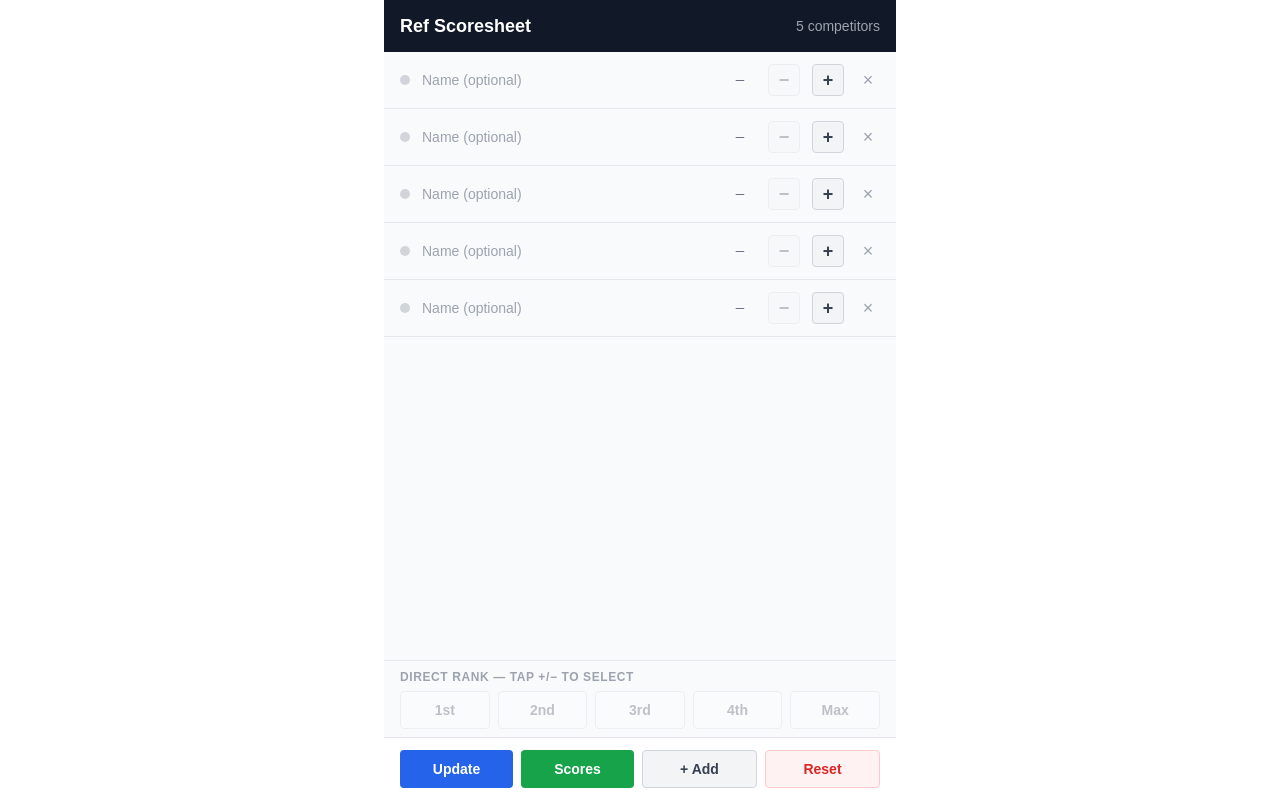
ScoresheetPage › Remove competitor shows confirmation dialog
This screenshot has width=1280, height=800.
Click the button named "remove competitor" at (868, 80), box [856,68,880,92]
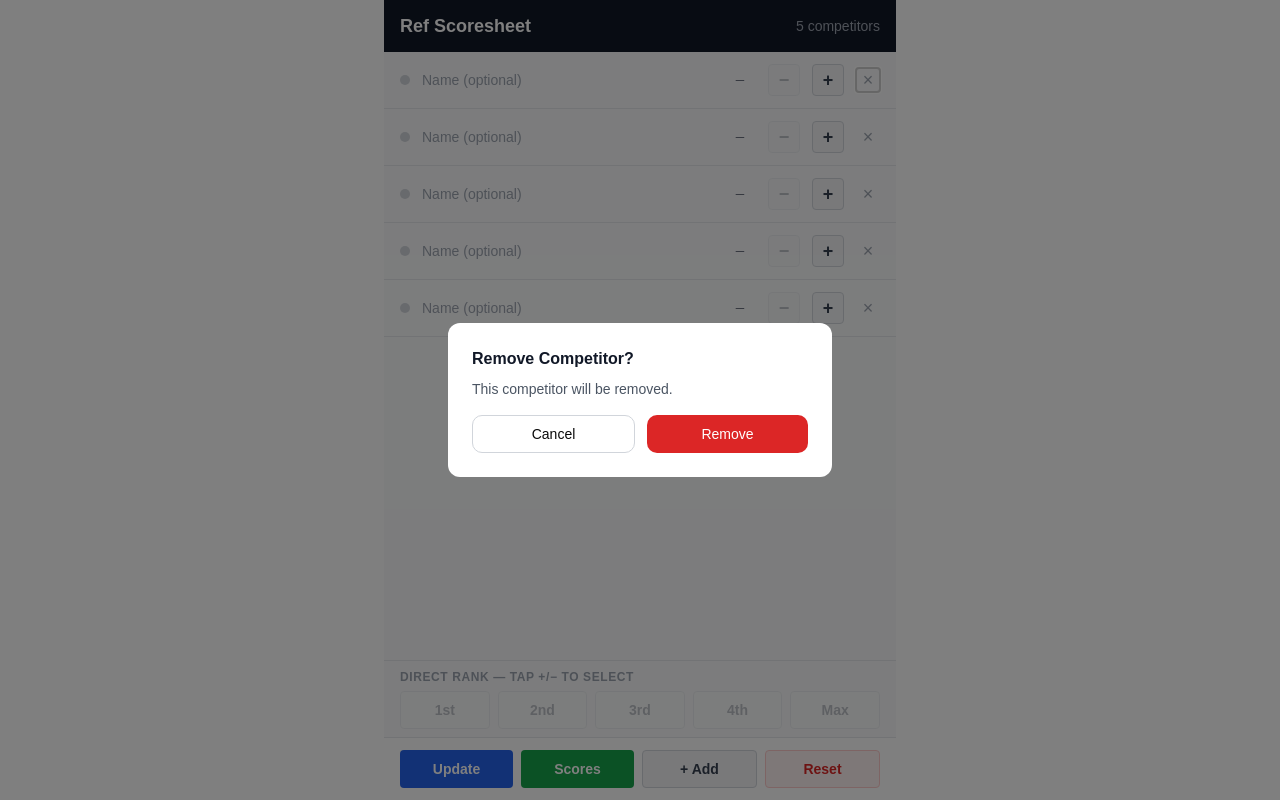
Now the heading "Remove Competitor?" is shown, box [472,350,634,367]
